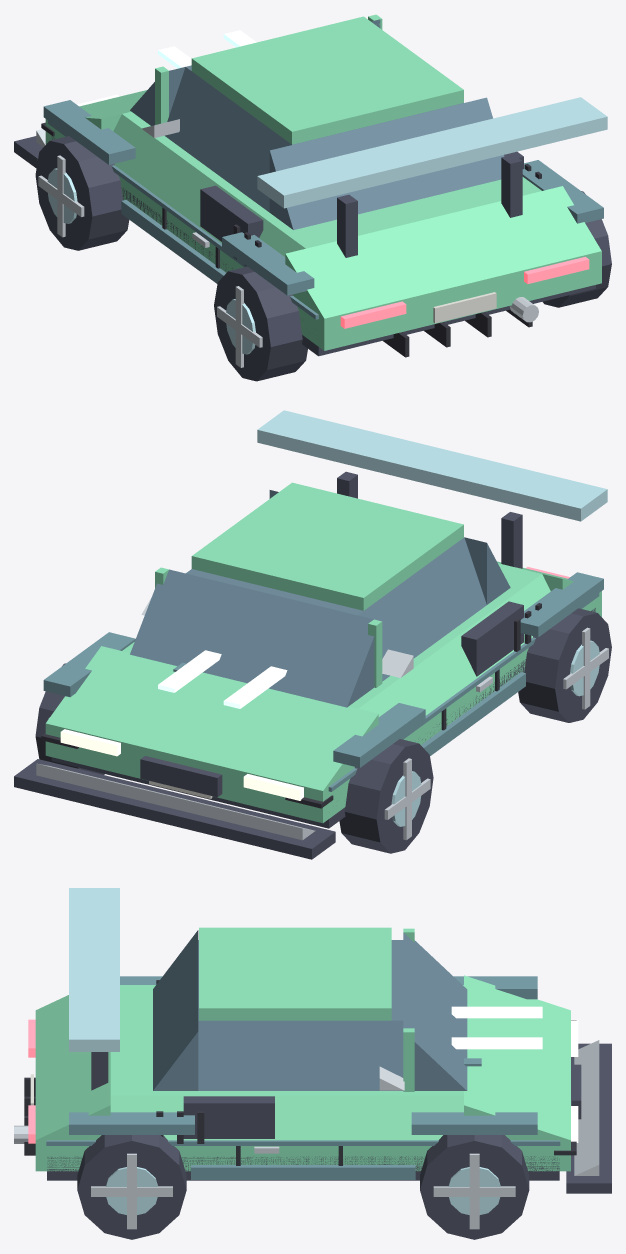
The model's file is paddock_pulse.glb.
3 renders of one model, top to bottom at view 1: azimuth 30°, elevation 25°; view 2: azimuth 150°, elevation 25°; view 3: azimuth 270°, elevation 25°, orthographic. The views are drawn at different scales.
Parts seen in each view (by area): view 1: Roof.292, Tail.092, RearWing.055, RearWindow.192, Body.292, CabinSideL.089, Wheel_RL.252, Wheel_FL.252, BodyUpper.089, ShoulderL.089, Arch-1False.168, Arch-1True.168 (+22 smaller); view 2: Nose.089, Roof.292, Windshield.192, RearWing.055, Body.292, CabinSideL.089, Splitter.059, Wheel_FL.252, Wheel_RL.252, ShoulderL.089, Bumper.288, AirIntake-1.055 (+22 smaller); view 3: Roof.292, CabinSideR.089, Nose.089, ShoulderR.089, RearWing.055, Windshield.192, Body.292, Tail.092, Wheel_FR.252, Wheel_RR.252, RearWindow.192, BodyUpper.089 (+21 smaller).
Boxes of the visible parts, left/top/right/bottom form: Roof.292: left=191, top=16, right=463, bottom=144; Tail.092: left=285, top=186, right=601, bottom=318; RearWing.055: left=257, top=97, right=607, bottom=208; RearWindow.192: left=269, top=97, right=504, bottom=229; Body.292: left=45, top=119, right=601, bottom=350; CabinSideL.089: left=165, top=67, right=291, bottom=212; Wheel_RL.252: left=214, top=266, right=307, bottom=381; Wheel_FL.252: left=35, top=136, right=129, bottom=250; BodyUpper.089: left=122, top=111, right=541, bottom=248; ShoulderL.089: left=113, top=114, right=305, bottom=256; Arch-1False.168: left=43, top=100, right=135, bottom=164; Arch-1True.168: left=222, top=232, right=314, bottom=295; Nose.089: left=46, top=646, right=378, bottom=790; Roof.292: left=191, top=482, right=463, bottom=610; Windshield.192: left=130, top=569, right=374, bottom=707; RearWing.055: left=257, top=410, right=607, bottom=521; Body.292: left=45, top=591, right=601, bottom=823; CabinSideL.089: left=358, top=537, right=486, bottom=681; Splitter.059: left=14, top=759, right=335, bottom=859; Wheel_FL.252: left=339, top=739, right=433, bottom=853; Wheel_RL.252: left=518, top=608, right=611, bottom=722; ShoulderL.089: left=358, top=574, right=550, bottom=716; Bumper.288: left=36, top=763, right=315, bottom=840; AirIntake-1.055: left=461, top=601, right=523, bottom=676; Roof.292: left=199, top=927, right=391, bottom=1020; CabinSideR.089: left=198, top=1020, right=403, bottom=1090; Nose.089: left=464, top=975, right=570, bottom=1140; ShoulderR.089: left=110, top=1095, right=463, bottom=1140; RearWing.055: left=69, top=888, right=119, bottom=1051; Windshield.192: left=403, top=932, right=467, bottom=1090; Body.292: left=35, top=1140, right=570, bottom=1171; Tail.092: left=35, top=995, right=110, bottom=1140; Wheel_FR.252: left=420, top=1135, right=529, bottom=1239; Wheel_RR.252: left=77, top=1135, right=186, bottom=1239; RearWindow.192: left=153, top=930, right=198, bottom=1090; BodyUpper.089: left=110, top=985, right=463, bottom=1095.
Bounding box in the file's own units: 3.4 × 1.9 × 5.25.
